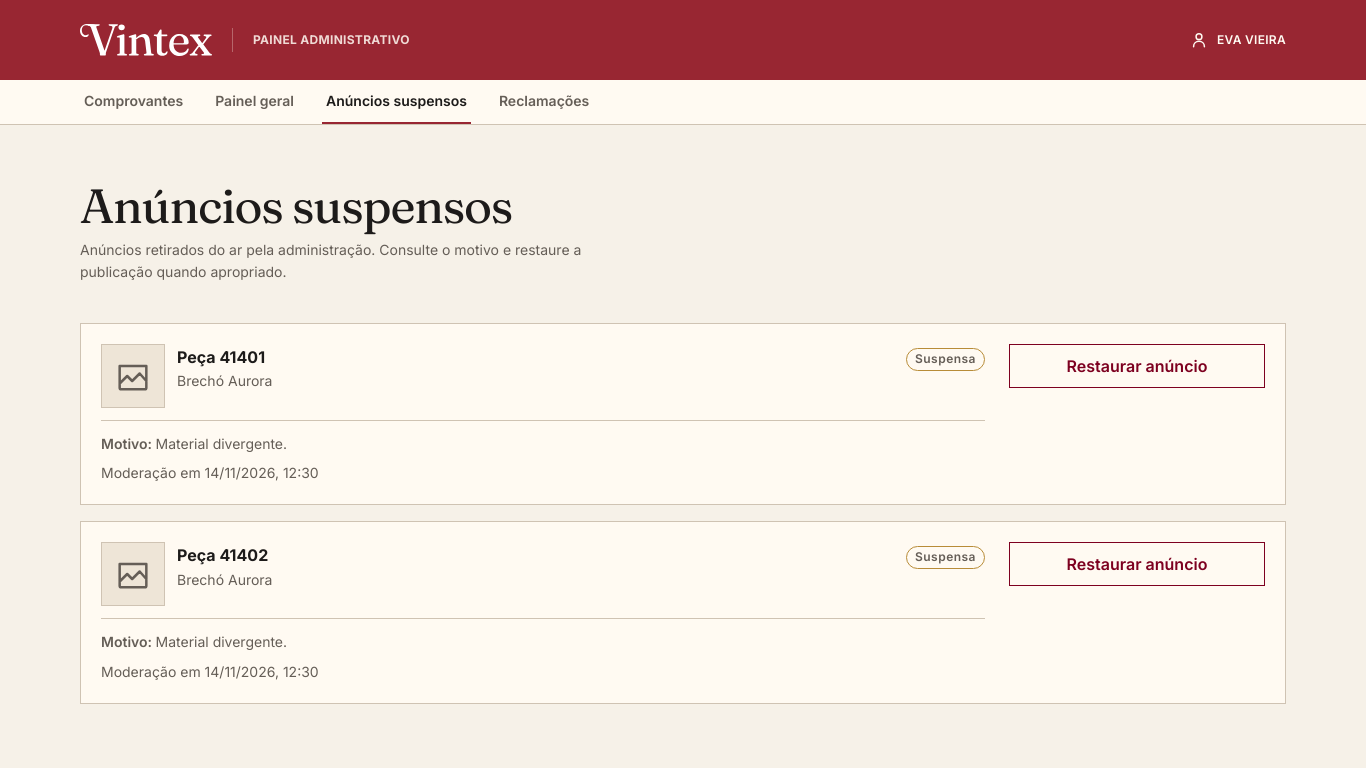
ModerationQueue — RED #414 › retorno despublicado informa suspensão removida e pausa do vendedor, sem prometer vitrine
Expected: the heading "Peça 41401" is shown, [177,347,265,367]
What coordinates should you click on to do the following:
click the button "Restaurar anúncio" in the row of "Peça 41401"
I would click on:
 (1137, 366)
Its box is [1009,344,1265,388].
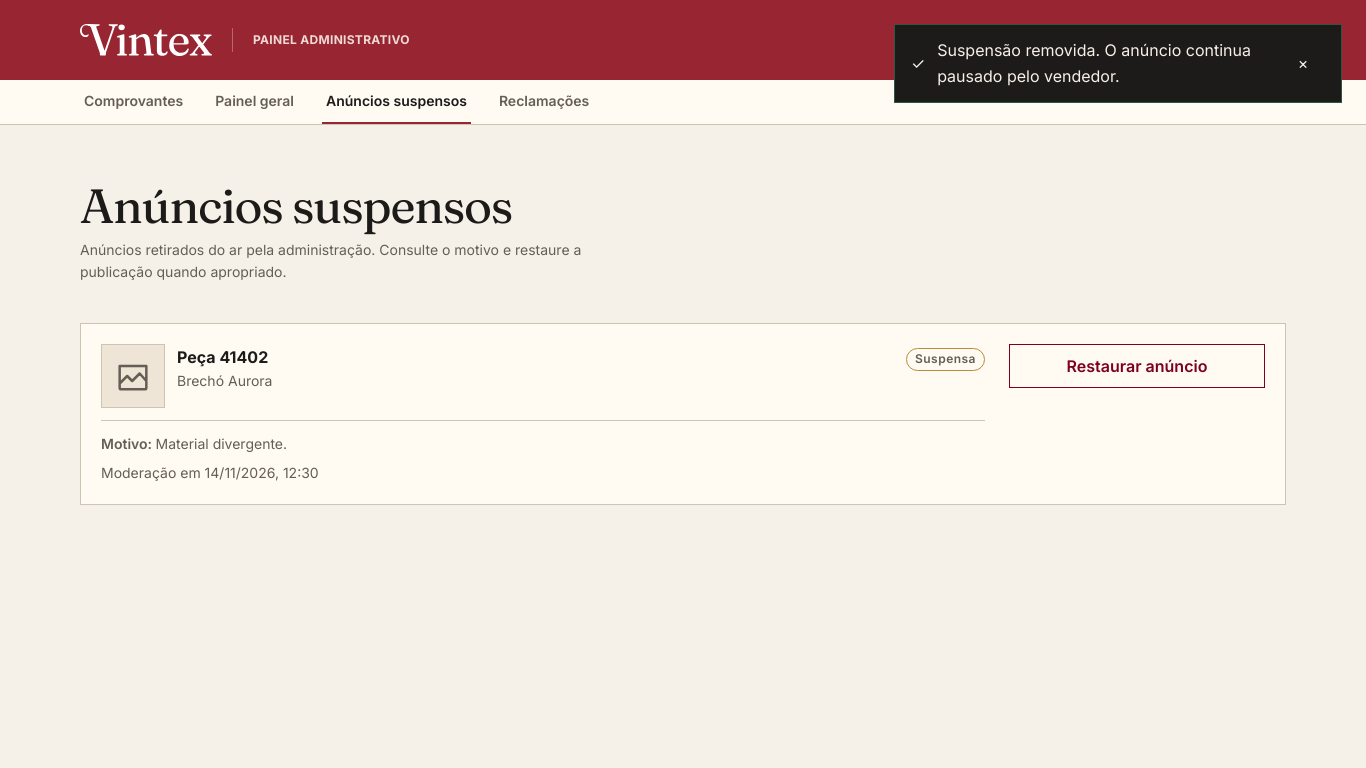
Result: the heading "Peça 41401" is gone
Result: the message shows "Suspensão removida" at [937,40,1251,86]
Result: the message reads "✓ Suspensão removida. O anúncio continua pausado pelo vendedor. ×" at [937,40,1251,86]
